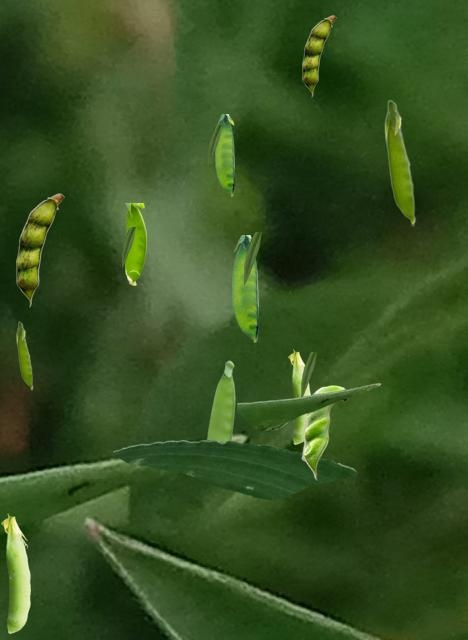pea: (16, 193, 63, 306), (301, 385, 348, 479), (384, 99, 415, 225), (1, 513, 29, 632), (302, 15, 335, 96), (232, 235, 257, 341), (206, 360, 234, 441), (288, 349, 310, 443), (125, 203, 145, 284), (215, 114, 233, 195), (16, 321, 32, 389)
